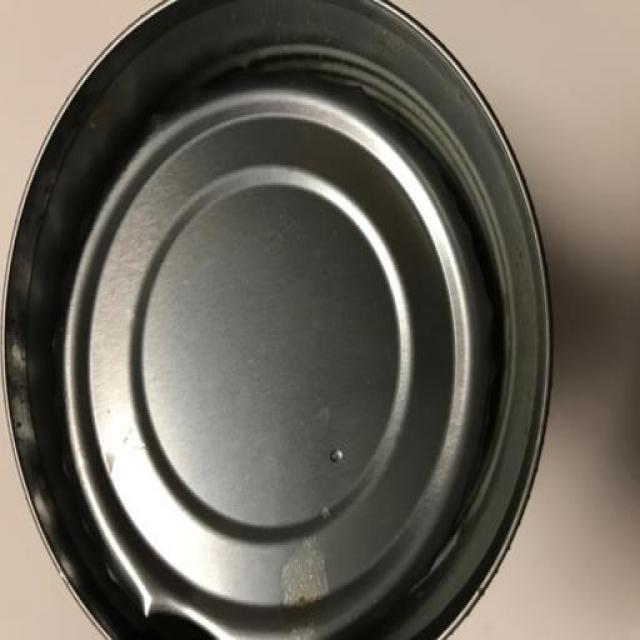metel: (3, 7, 606, 640)
